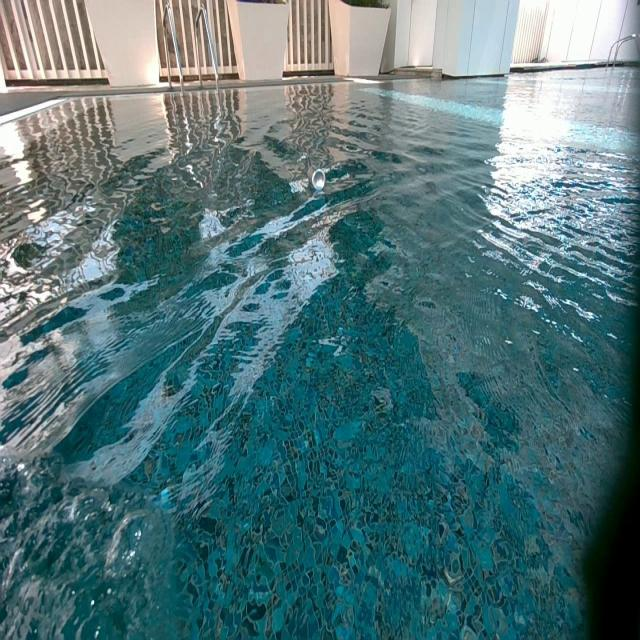Cans: (312, 169, 326, 189)
